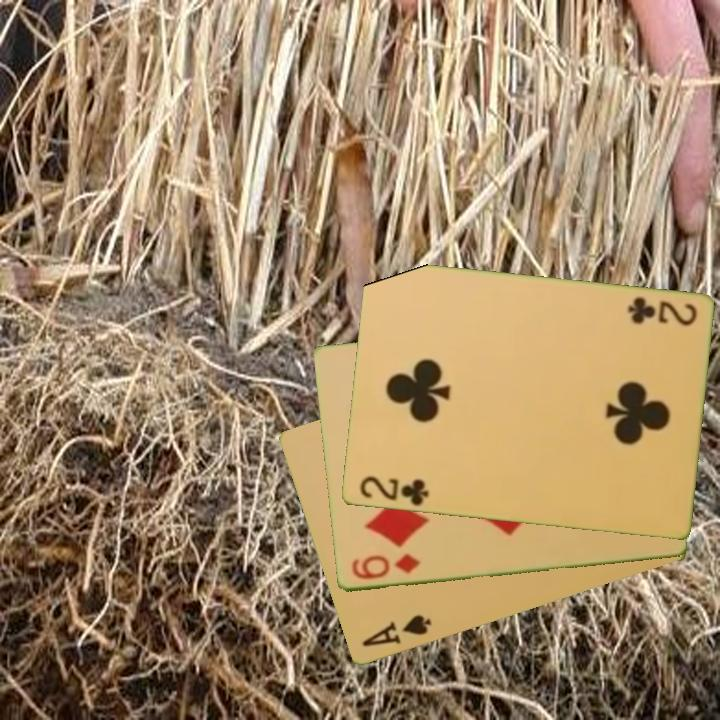2c: (355, 473, 431, 509), (623, 294, 699, 329)
6d: (348, 550, 423, 583)
As: (358, 611, 434, 650)
